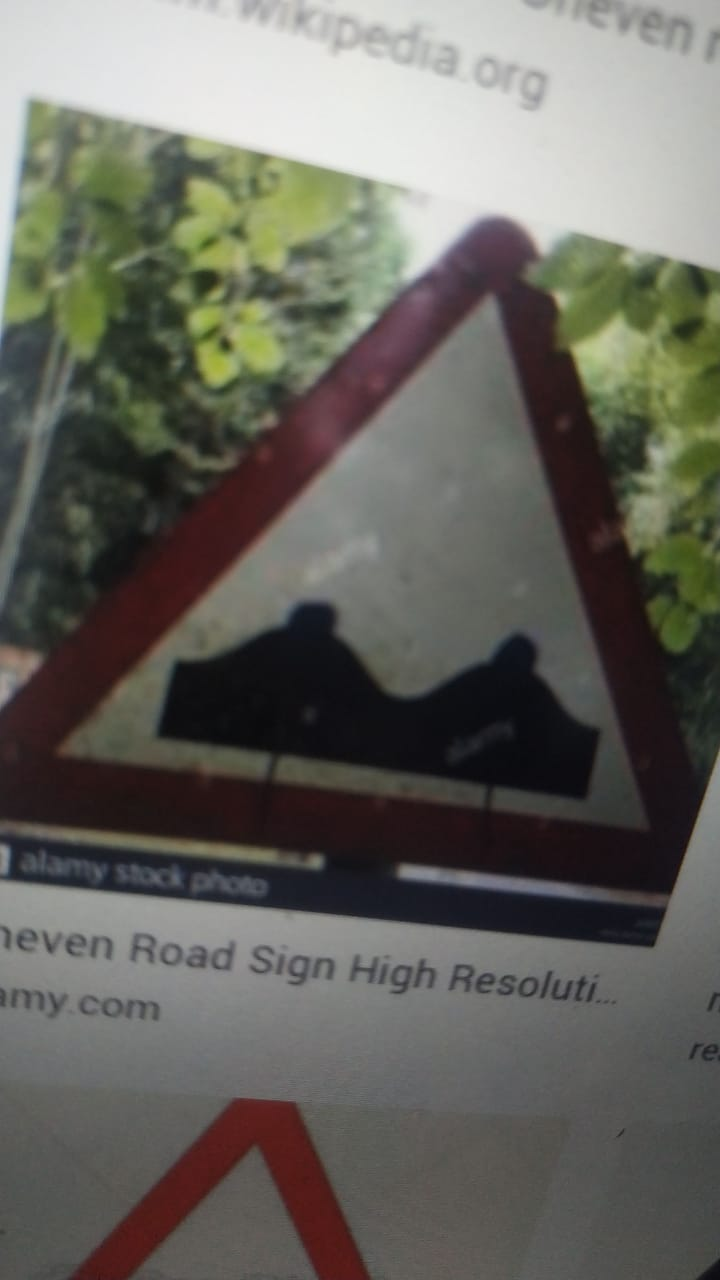UNEVEN ROAD: (18, 237, 683, 888)
